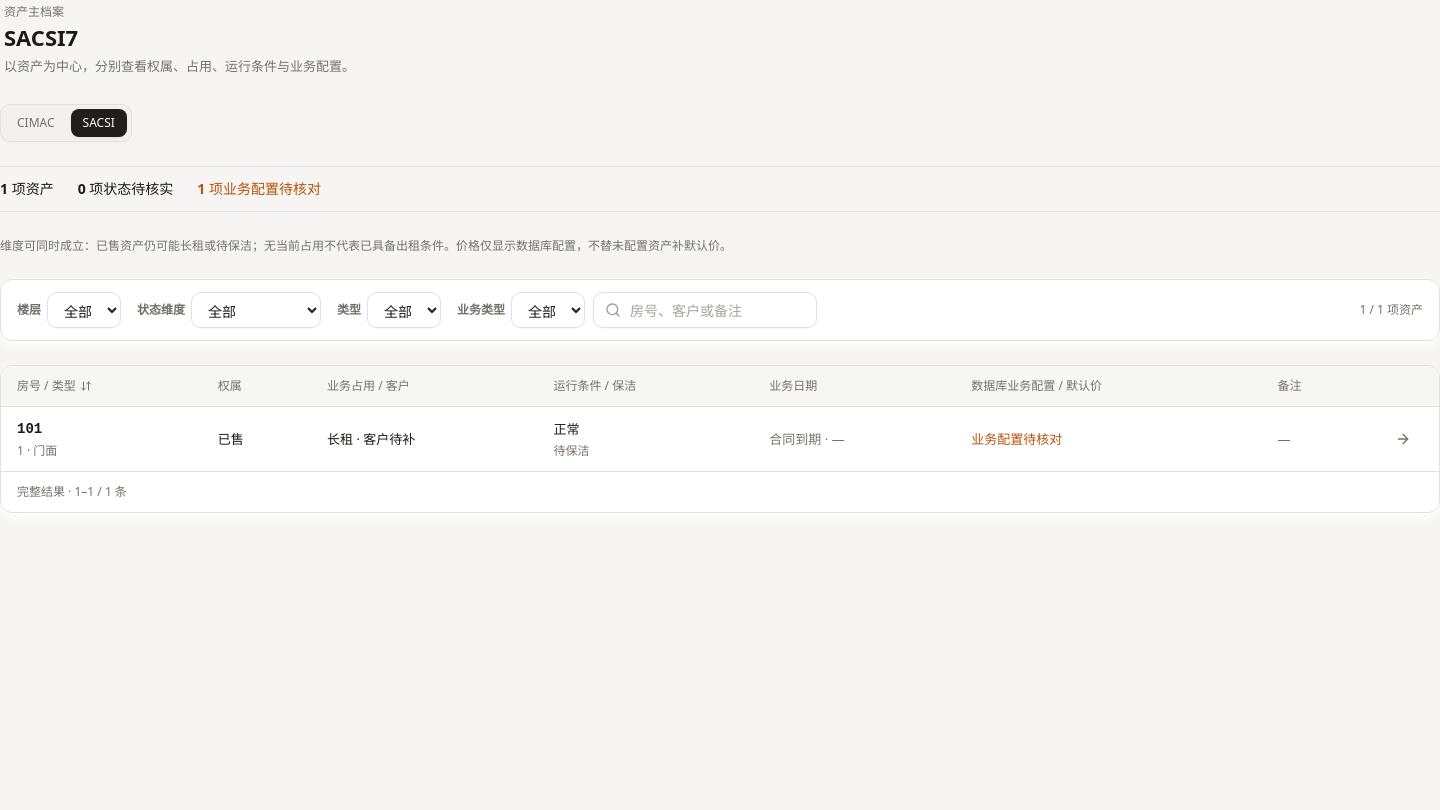
Test case: independent asset dimensions › shows a status-history read failure explicitly, not no records
This screenshot has width=1440, height=810.
What coordinates should you click on to do the following:
click the button named "查看资产 101"
I would click on:
 (1403, 438)
Its box is top-left (1383, 422), bottom-right (1423, 454).
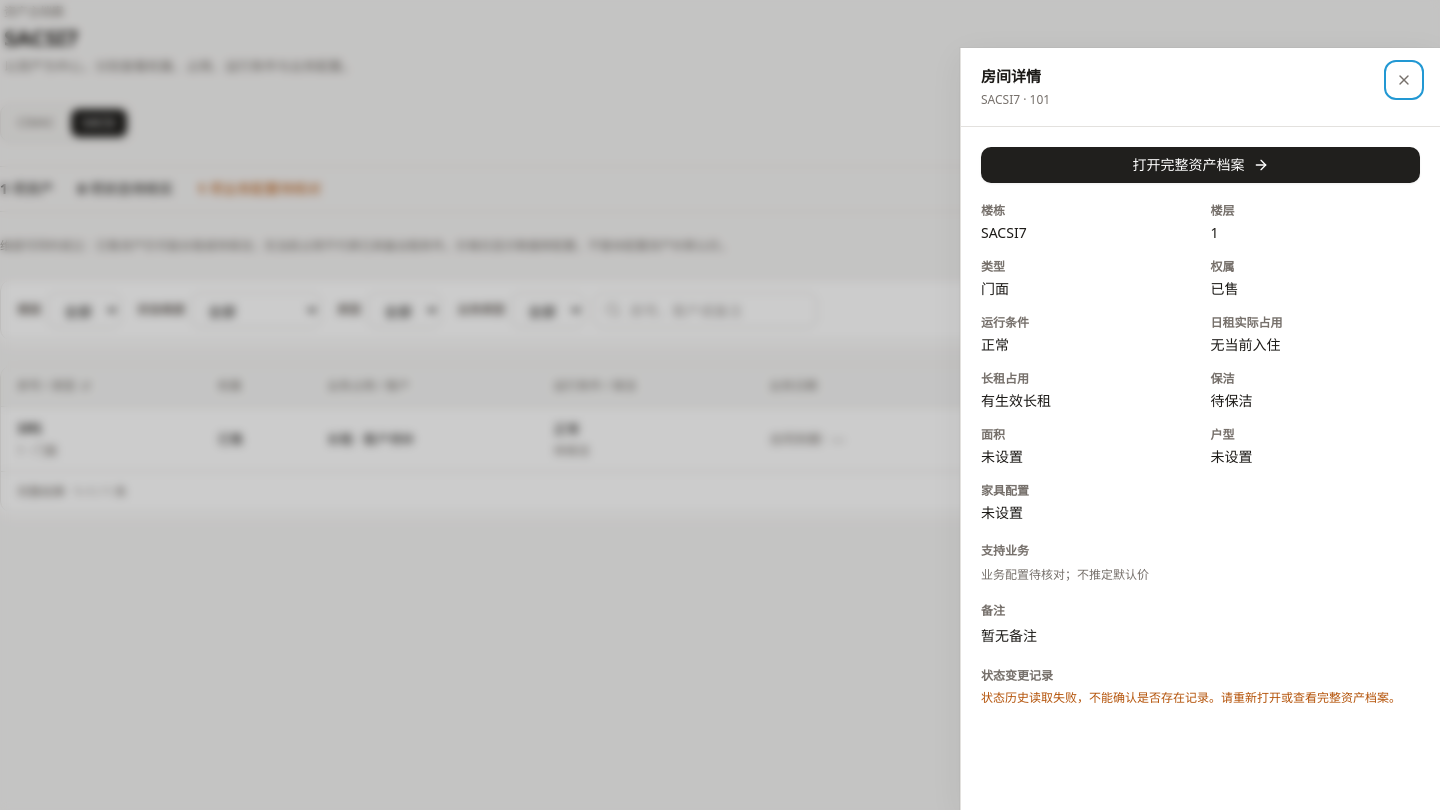
Now the text "状态历史读取失败" is shown, box top-left (981, 689), bottom-right (1401, 706)
